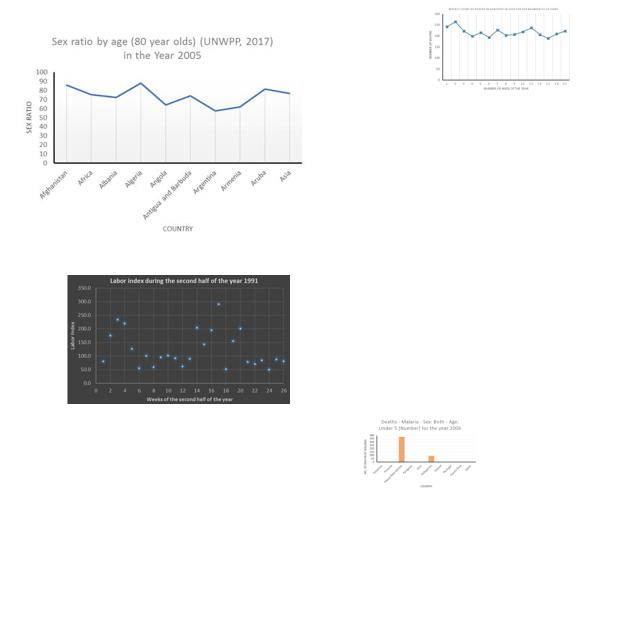Graph: (18, 29, 307, 237), (67, 275, 290, 404), (425, 4, 573, 95), (362, 417, 478, 490)
